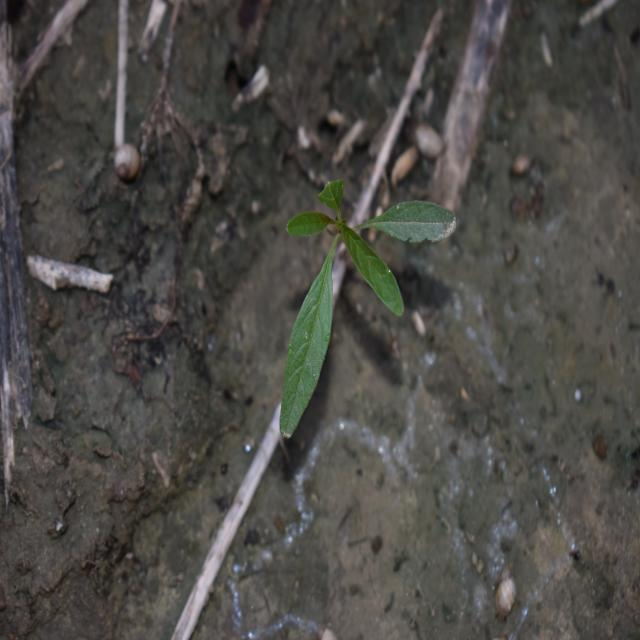Waterhemp: (278, 176, 460, 440)
